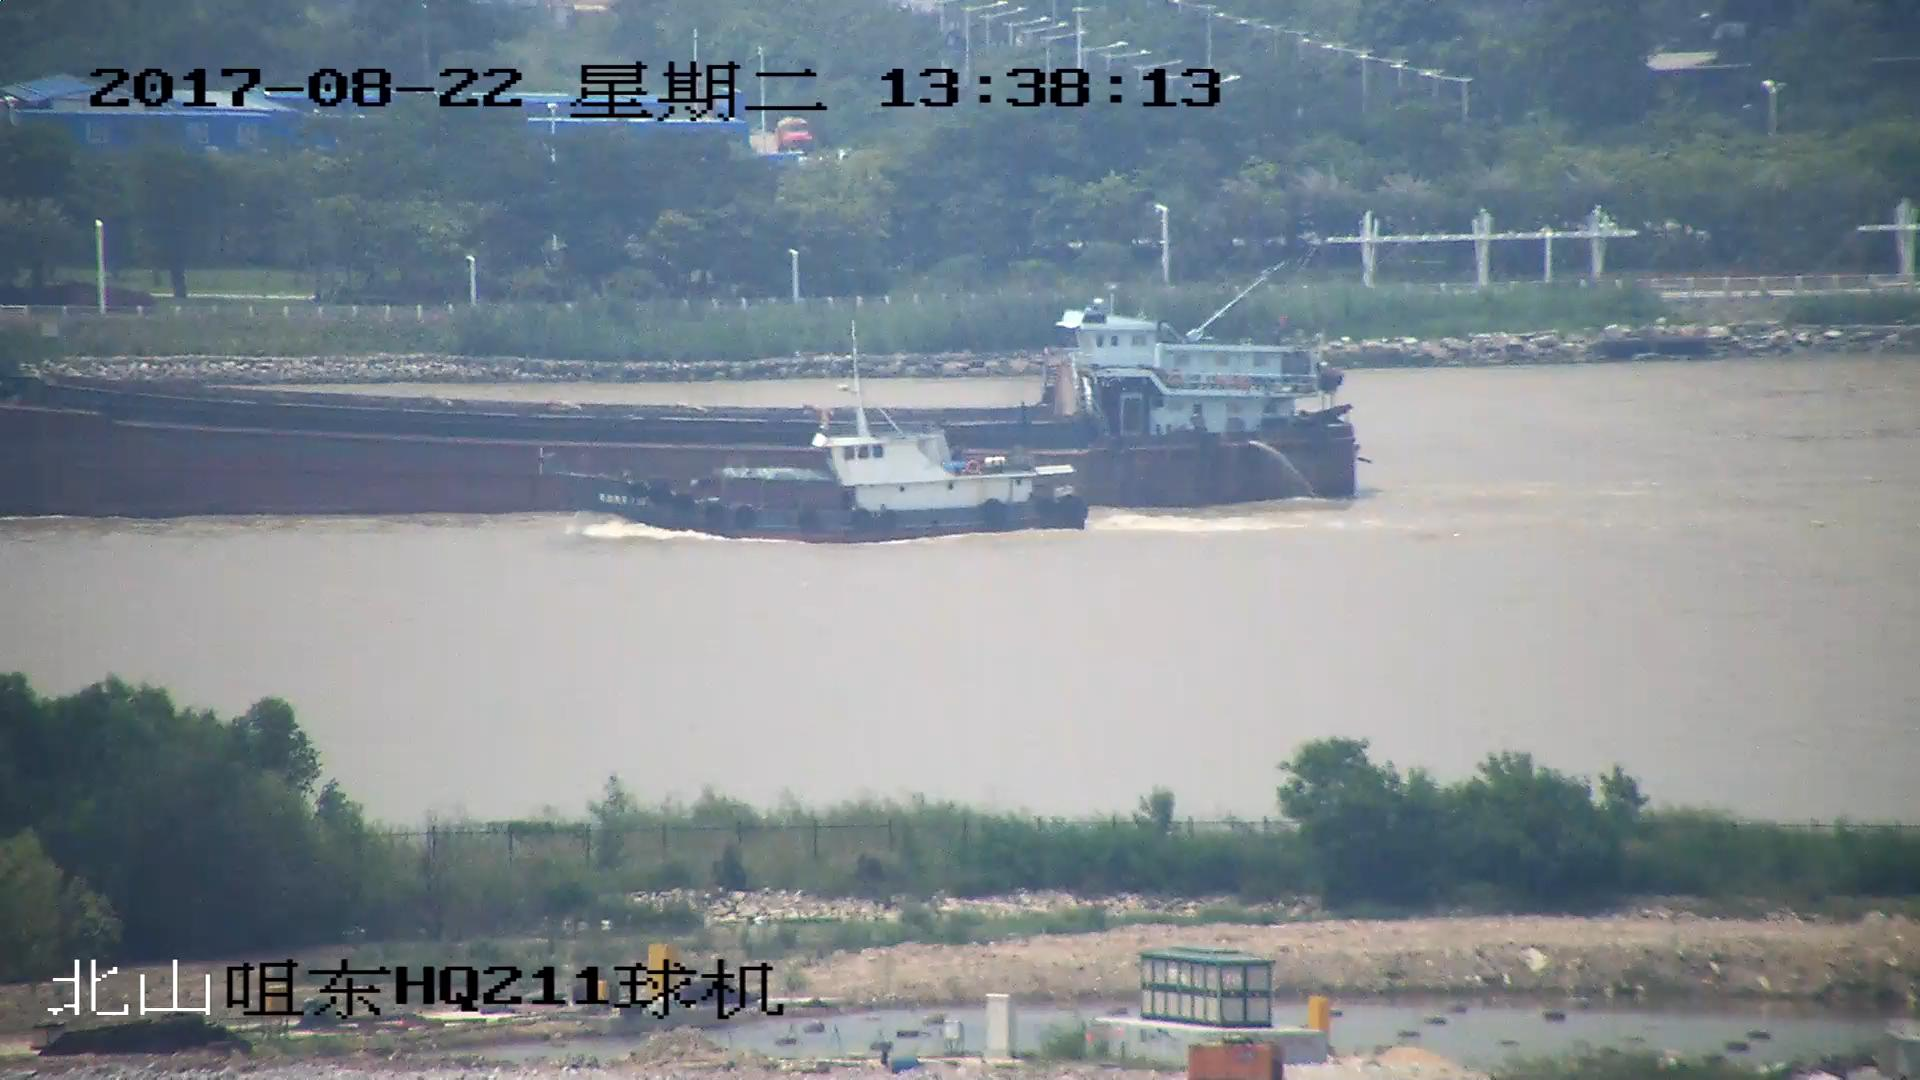bulk cargo carrier: (1, 292, 1361, 512)
passenger ship: (610, 337, 1093, 546)
